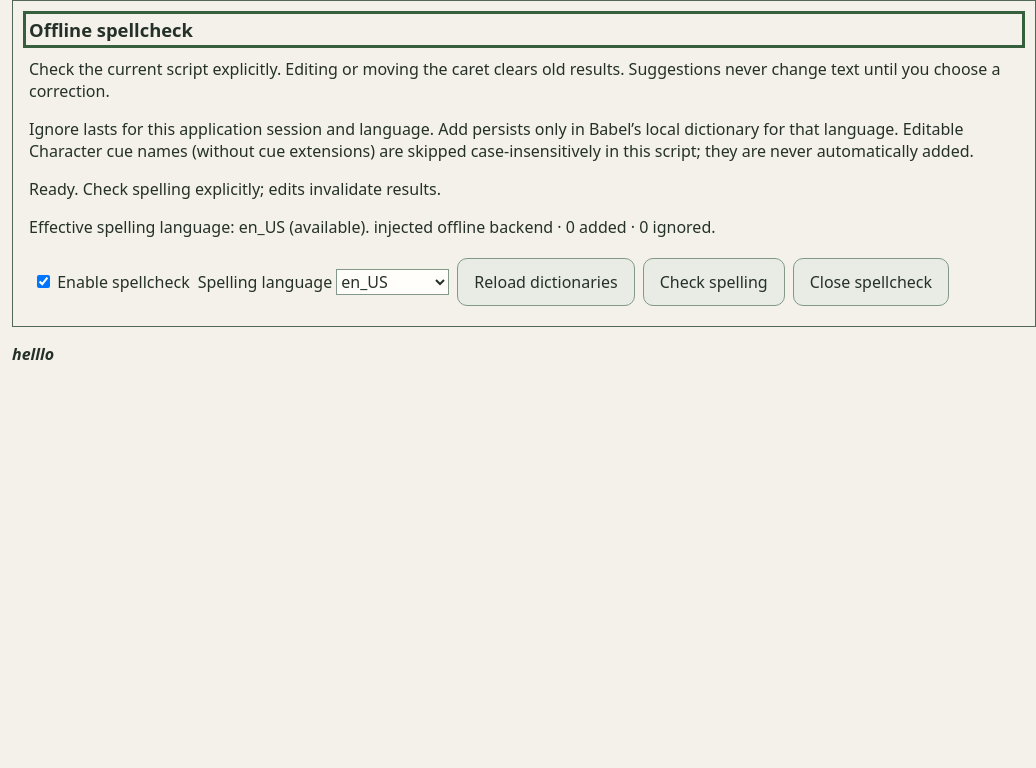
Test case: keeps failed Add visible and old dictionary state usable
Click the button "Check spelling" at x=714, y=282, box [643,258,785,306]
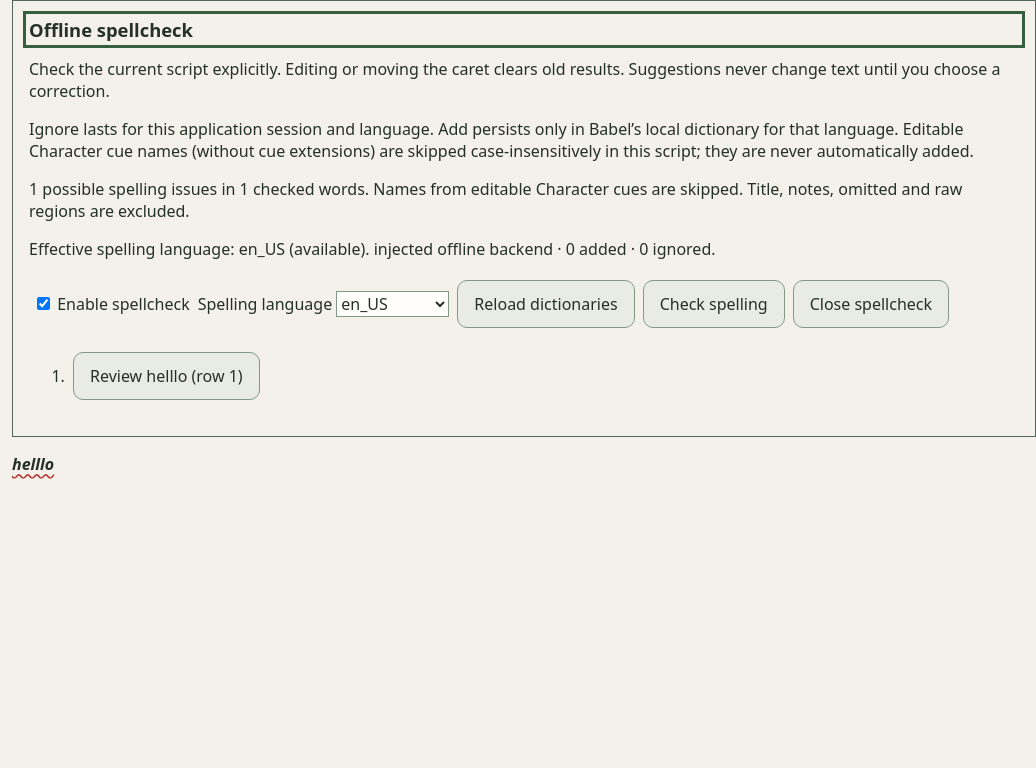
Check: the button "Review helllo (row 1)" is enabled
Click the button "Review helllo (row 1)" at x=166, y=376, box [73,352,260,400]
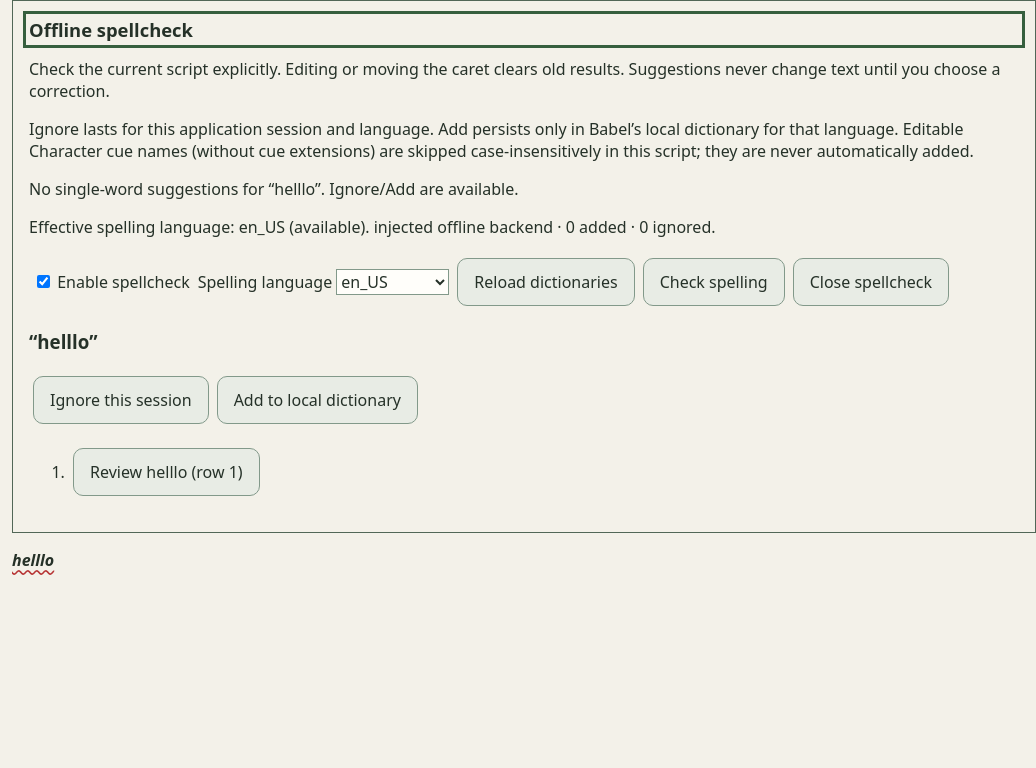
Check: the button "Add to local dictionary" is enabled
Click the button "Add to local dictionary" at x=317, y=400, box [217,376,418,424]
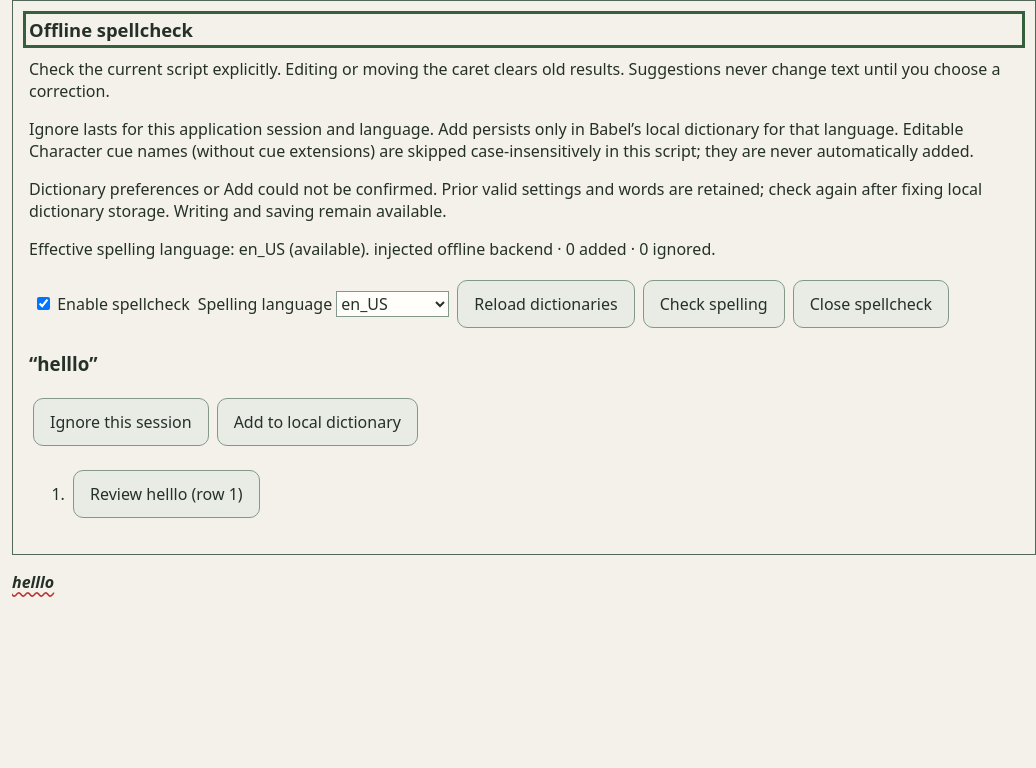
Check: the message shows "could not be confirmed", box [29,178,982,222]
